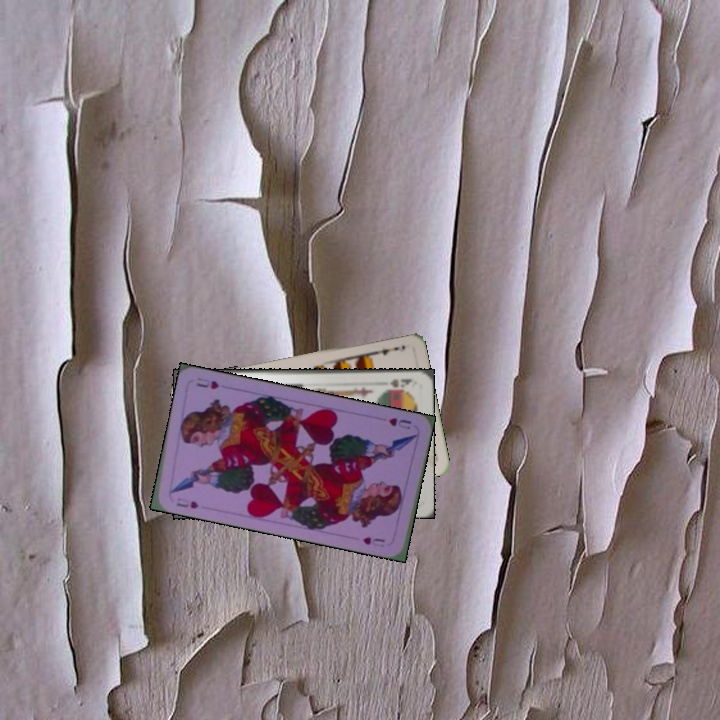E7: (369, 343, 402, 358)
HU: (384, 414, 414, 432), (173, 494, 201, 511)
SK: (381, 374, 415, 392)
